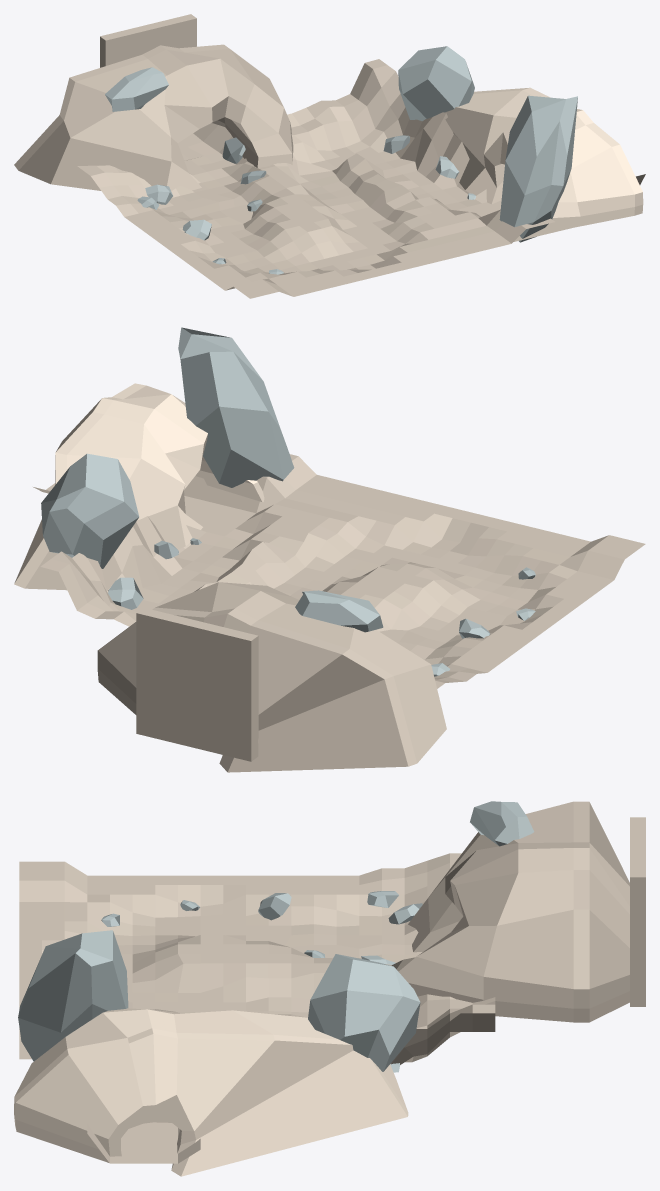
The model's file is 042220shadowReceivingScene01.gltf.
The picture shows the model from 3 angles, top to bottom: view 1: azimuth 30°, elevation 25°; view 2: azimuth 150°, elevation 25°; view 3: azimuth 270°, elevation 25°; orthographic projection. The views are drawn at different scales.
Visible parts, largest first — view 1: Plane, Cube.005, Cube.020, Cube.022, Cube.021, Cube.007, Cube.008, Cube.019, Cube.018; view 2: Plane, Cube.005, Cube.007, Cube.020, Cube.022, Cube.021, Cube.008, Cube.023; view 3: Plane, Cube.020, Cube.005, Cube.022, Cube.021, Cube.007, Cube.008, Cube.019.
Part boxes in pixels (<box>): Plane: <box>77,59,645,298</box>; Cube.005: <box>14,44,293,191</box>; Cube.020: <box>445,87,643,241</box>; Cube.022: <box>499,95,577,242</box>; Cube.021: <box>398,46,474,121</box>; Cube.007: <box>100,14,196,67</box>; Cube.008: <box>105,67,168,111</box>; Cube.019: <box>182,219,211,240</box>; Cube.018: <box>222,137,245,163</box>; Plane: <box>33,454,645,688</box>; Cube.005: <box>97,582,446,772</box>; Cube.007: <box>136,608,258,761</box>; Cube.020: <box>14,383,264,590</box>; Cube.022: <box>178,327,294,487</box>; Cube.021: <box>41,453,139,568</box>; Cube.008: <box>295,590,383,632</box>; Cube.023: <box>108,577,143,609</box>; Plane: <box>19,853,495,1163</box>; Cube.020: <box>14,1008,408,1176</box>; Cube.005: <box>391,801,629,1022</box>; Cube.022: <box>18,930,128,1061</box>; Cube.021: <box>308,954,420,1071</box>; Cube.007: <box>630,817,645,1006</box>; Cube.008: <box>470,801,534,846</box>; Cube.019: <box>258,893,291,920</box>.
Size of the model in its own units: 87.64 by 26.64 by 79.7.
